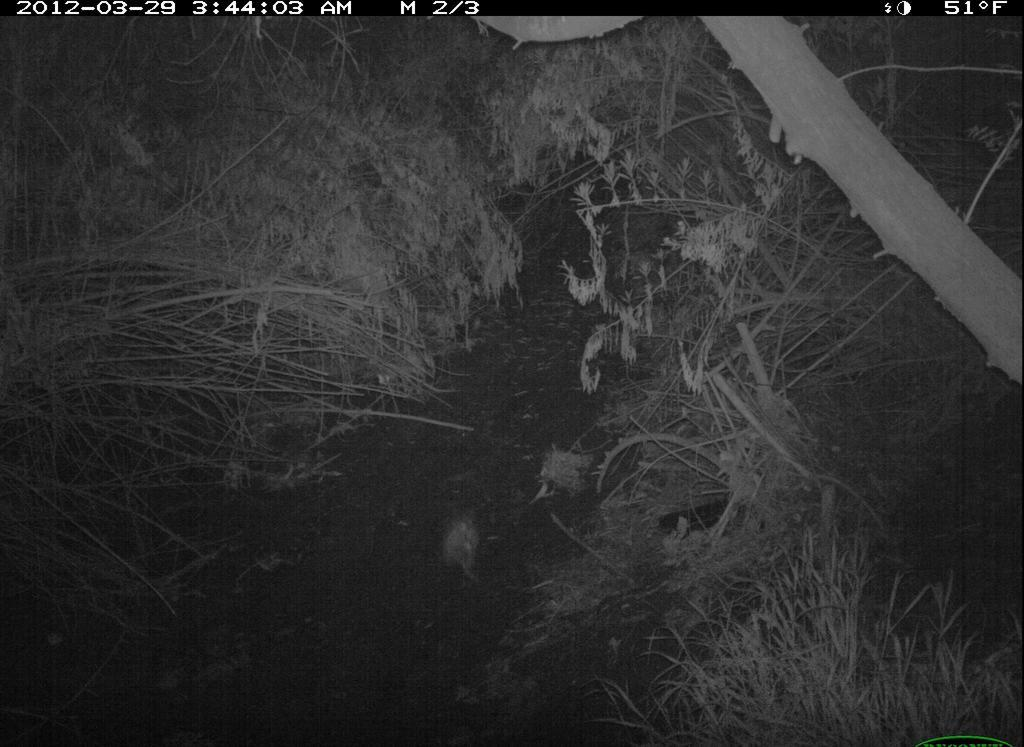opossum: (422, 488, 511, 623)
